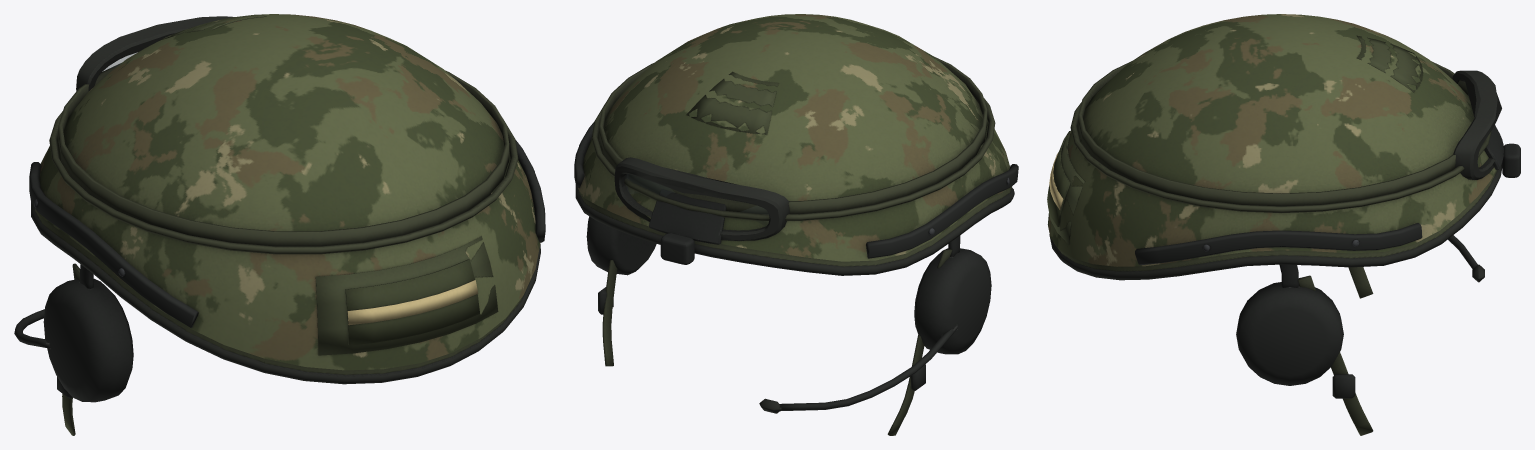
Rendered from Ashford_Head.glb.
3 renders of one model, left to right at view 1: azimuth 30°, elevation 25°; view 2: azimuth 150°, elevation 25°; view 3: azimuth 270°, elevation 25°, orthographic. The views are drawn at different scales.
Visible parts, largest first — view 1: Ashford_Head_camoA_v_cover, Ashford_Head_helmetDark, Ashford_Head_helmetDark_v_headset, Ashford_Head_strap_v_goggles, Ashford_Head_band, Ashford_Head_strap, Ashford_Head_strap_v_cover, Ashford_Head_helmetDark_v_goggles, Ashford_Head_helmet; view 2: Ashford_Head_camoA_v_cover, Ashford_Head_helmetDark, Ashford_Head_helmetDark_v_headset, Ashford_Head_strap_v_goggles, Ashford_Head_helmetDark_v_goggles, Ashford_Head_strap, Ashford_Head_strap_v_cover, Ashford_Head_helmet, Ashford_Head_lens_v_goggles; view 3: Ashford_Head_camoA_v_cover, Ashford_Head_helmetDark, Ashford_Head_helmetDark_v_headset, Ashford_Head_strap_v_goggles, Ashford_Head_strap, Ashford_Head_strap_v_cover, Ashford_Head_helmetDark_v_goggles, Ashford_Head_helmet, Ashford_Head_band.
Boxes of the visible parts, x1,y1,x2,y2 form: Ashford_Head_camoA_v_cover: (38, 14, 540, 370); Ashford_Head_helmetDark: (29, 140, 545, 398); Ashford_Head_helmetDark_v_headset: (14, 264, 133, 402); Ashford_Head_strap_v_goggles: (58, 63, 509, 246); Ashford_Head_band: (345, 259, 479, 345); Ashford_Head_strap: (62, 14, 498, 435); Ashford_Head_strap_v_cover: (49, 111, 518, 254); Ashford_Head_helmetDark_v_goggles: (76, 16, 234, 91); Ashford_Head_helmet: (35, 208, 532, 374); Ashford_Head_camoA_v_cover: (577, 14, 1011, 261); Ashford_Head_helmetDark: (574, 122, 1018, 390); Ashford_Head_helmetDark_v_headset: (586, 216, 991, 413); Ashford_Head_strap_v_goggles: (599, 57, 987, 214); Ashford_Head_helmetDark_v_goggles: (614, 157, 789, 240); Ashford_Head_strap: (602, 71, 952, 435); Ashford_Head_strap_v_cover: (591, 98, 995, 220); Ashford_Head_helmet: (579, 187, 1011, 266); Ashford_Head_lens_v_goggles: (625, 174, 768, 225); Ashford_Head_camoA_v_cover: (1047, 14, 1495, 266); Ashford_Head_helmetDark: (1049, 125, 1520, 398); Ashford_Head_helmetDark_v_headset: (1236, 235, 1484, 385); Ashford_Head_strap_v_goggles: (1078, 61, 1468, 206); Ashford_Head_strap: (1048, 35, 1422, 435); Ashford_Head_strap_v_cover: (1070, 102, 1491, 212); Ashford_Head_helmetDark_v_goggles: (1452, 70, 1501, 179); Ashford_Head_helmet: (1054, 170, 1496, 271); Ashford_Head_band: (1047, 131, 1070, 226).
Size of the model in its own units: 1.48 by 1.29 by 1.67.
2 materials, 1 textured.
